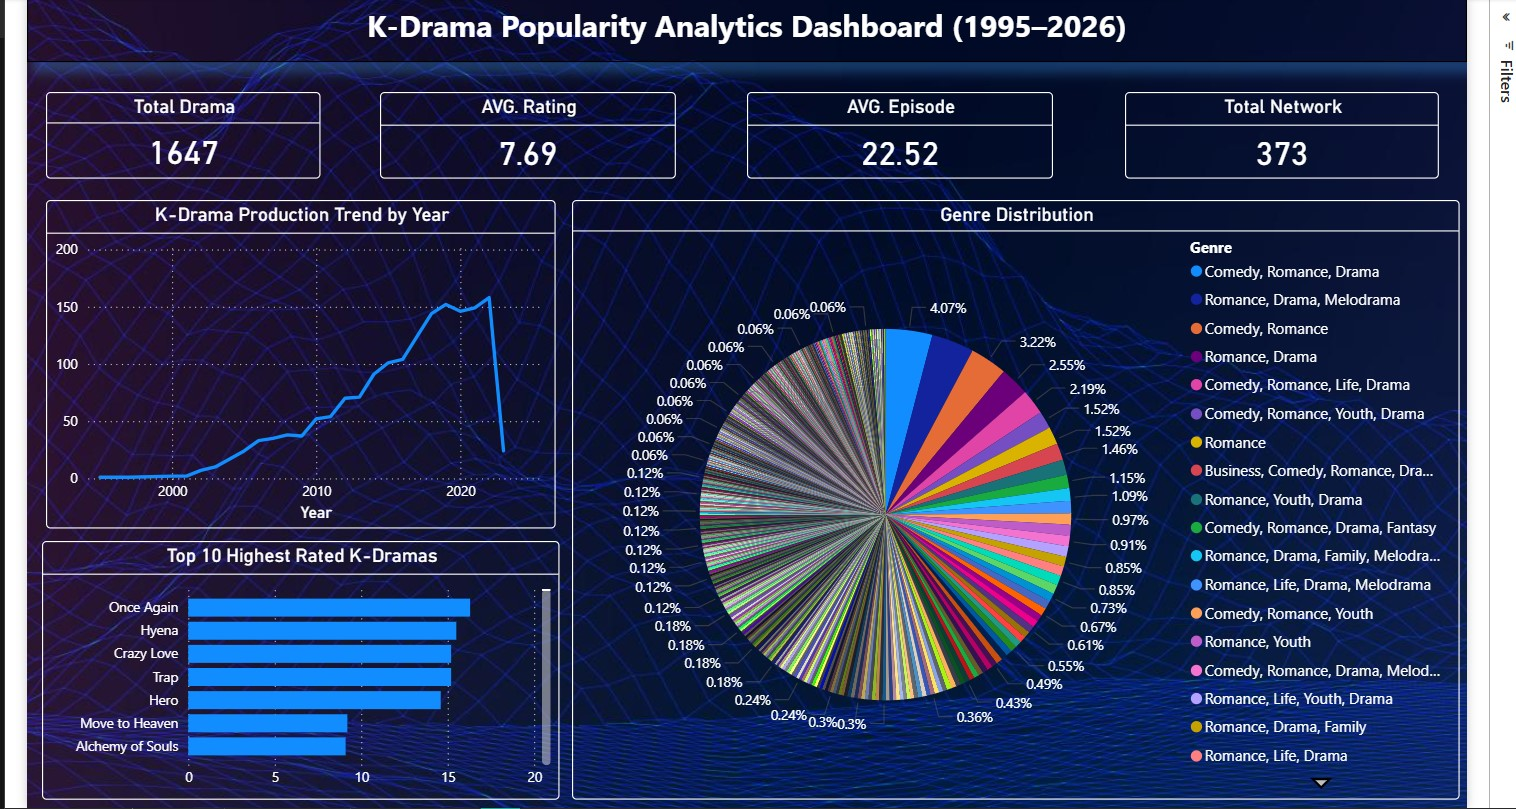

The dashboard page shown, as its layout file describes it:
{"tool":"powerbi","page":{"name":"Overview","canvas":[1280,720],"ordinal":0},"visuals":[{"type":"card","title":"Total Drama","fields":{"Values":["kdrama_clean.Total Dramas"]},"box":[16.9,83.6,244.4,77.3],"z":0},{"type":"card","title":"AVG. Rating","fields":{"Values":["kdrama_clean.Average Rating"]},"box":[313.8,83.6,263.1,77.3],"z":1},{"type":"card","title":"Total Network","fields":{"Values":["kdrama_clean.Total Networks"]},"box":[976,83.6,279.1,77.3],"z":2},{"type":"card","title":"AVG. Episode","fields":{"Values":["kdrama_clean.Average Episodes"]},"box":[640,83.6,272,77.3],"z":3},{"type":"textbox","box":[0,0,1280,57.2],"z":4},{"type":"lineChart","title":"K-Drama Production Trend by Year","fields":{"Category":["kdrama_clean.Year"],"Y":["CountNonNull(kdrama_clean.Drama_Name)"]},"box":[16.9,179.6,453.3,292.4],"z":5},{"type":"pieChart","title":"Genre Distribution","fields":{"Category":["kdrama_clean.Genre"],"Y":["CountNonNull(kdrama_clean.Drama_Name)"]},"box":[484.4,179.6,789.3,533.3],"z":6},{"type":"barChart","title":"Top 10 Highest Rated K-Dramas","fields":{"Category":["kdrama_clean.Drama_Name"],"Y":["Sum(kdrama_clean.Rating)"]},"box":[13.3,482.7,460.4,230.2],"z":7}]}

Visuals, with their boxes on the page's 1280x720 design canvas (x1, y1, x2, y2). These are canvas units, not pixel positions in the 1516x809 screenshot, which may show the page scaled, cropped or inside an application window:
"Total Drama" card: box=[17, 84, 261, 161]
"AVG. Rating" card: box=[314, 84, 577, 161]
"Total Network" card: box=[976, 84, 1255, 161]
"AVG. Episode" card: box=[640, 84, 912, 161]
textbox: box=[0, 0, 1280, 57]
"K-Drama Production Trend by Year" lineChart: box=[17, 180, 470, 472]
"Genre Distribution" pieChart: box=[484, 180, 1274, 713]
"Top 10 Highest Rated K-Dramas" barChart: box=[13, 483, 474, 713]
